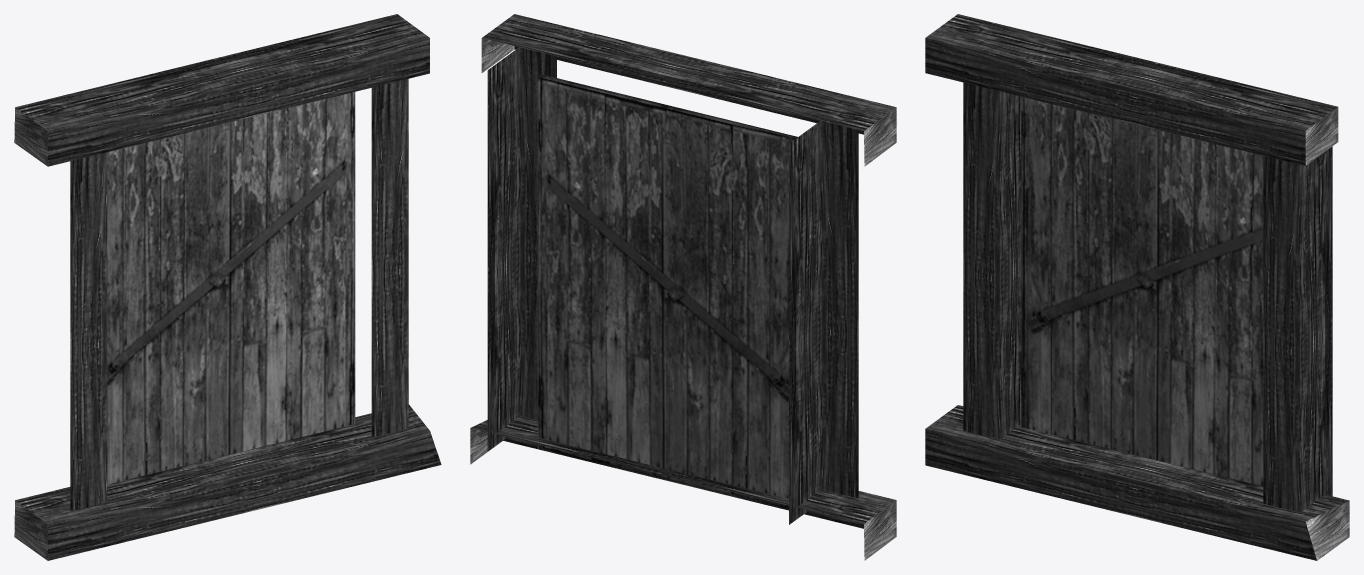
Rendered from StreetDeko_Window_A.FBX.
The picture shows the model from 3 angles, left to right: view 1: azimuth 30°, elevation 25°; view 2: azimuth 150°, elevation 25°; view 3: azimuth 330°, elevation 25°; orthographic projection.
Parts seen in each view (by area): view 1: Window_A; view 2: Window_A; view 3: Window_A.
Boxes of the visible parts, x1,y1,x2,y2 form: Window_A: (14,14,441,560); Window_A: (470,14,896,560); Window_A: (925,14,1349,560).
Size of the model in its own units: 177 by 184 by 31.51.
